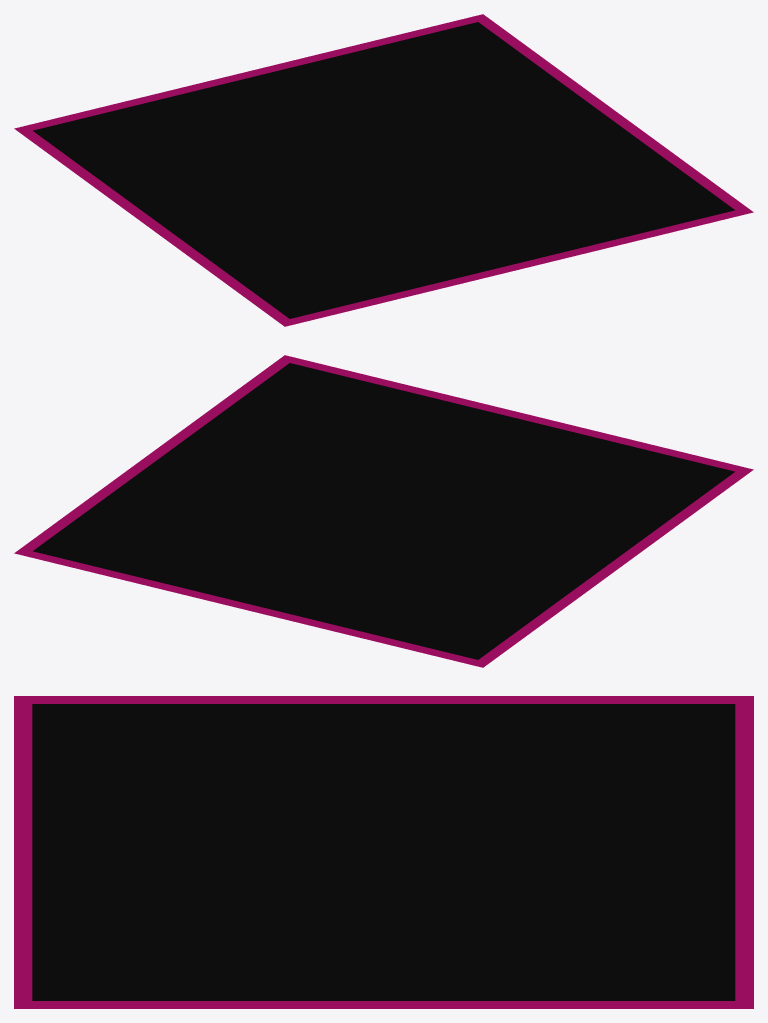
The model's file is TheGrid.fbx.
3 renders of one model, top to bottom at view 1: azimuth 30°, elevation 25°; view 2: azimuth 150°, elevation 25°; view 3: azimuth 270°, elevation 25°, orthographic. The views are drawn at different scales.
Visible parts, largest first — view 1: pPlane1; view 2: pPlane1; view 3: pPlane1.
Part boxes in pixels (bbox=[...]): pPlane1: bbox=[14, 14, 753, 326]; pPlane1: bbox=[14, 355, 753, 667]; pPlane1: bbox=[14, 696, 753, 1008].
Size of the model in its own units: 10 by 2.22e-15 by 10.
